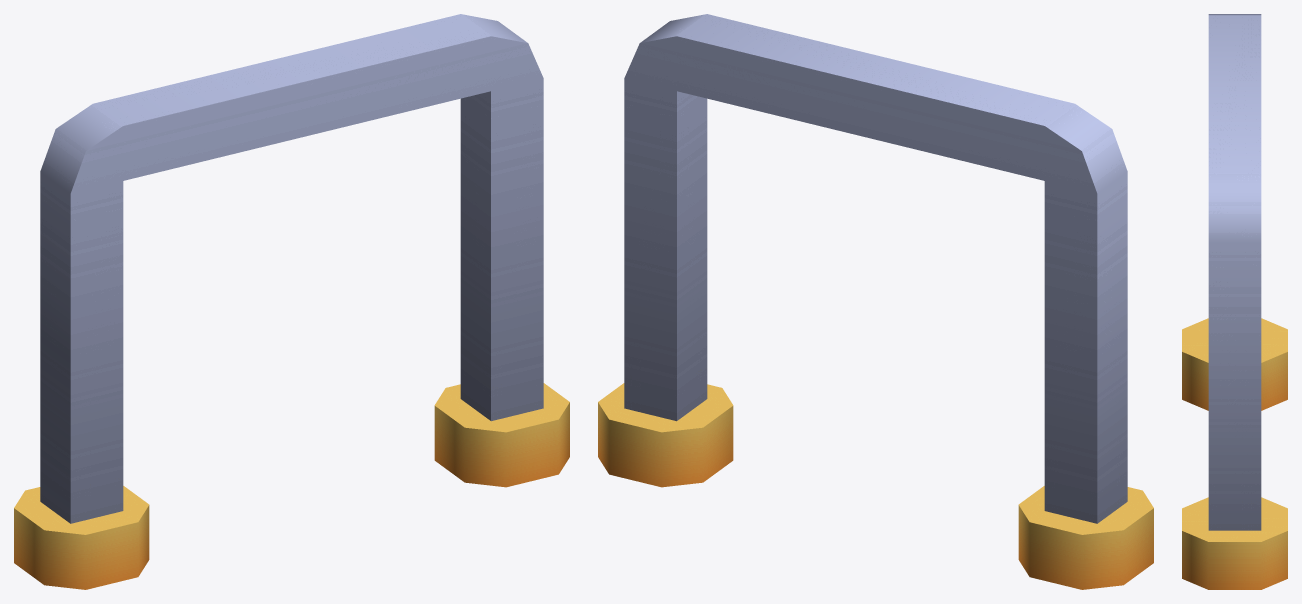
Rendered from rail-narrow.glb.
The picture shows the model from 3 angles, left to right: view 1: azimuth 30°, elevation 25°; view 2: azimuth 150°, elevation 25°; view 3: azimuth 270°, elevation 25°; orthographic projection. The views are drawn at different scales.
Parts seen in each view (by area): view 1: rail-narrow; view 2: rail-narrow; view 3: rail-narrow.
Part boxes in pixels (<box>): rail-narrow: <box>14,14,569,589</box>; rail-narrow: <box>598,14,1153,589</box>; rail-narrow: <box>1182,14,1287,589</box>.
Bounding box in the file's own units: 0.5 × 0.4 × 0.1.
1 material, 1 textured.
